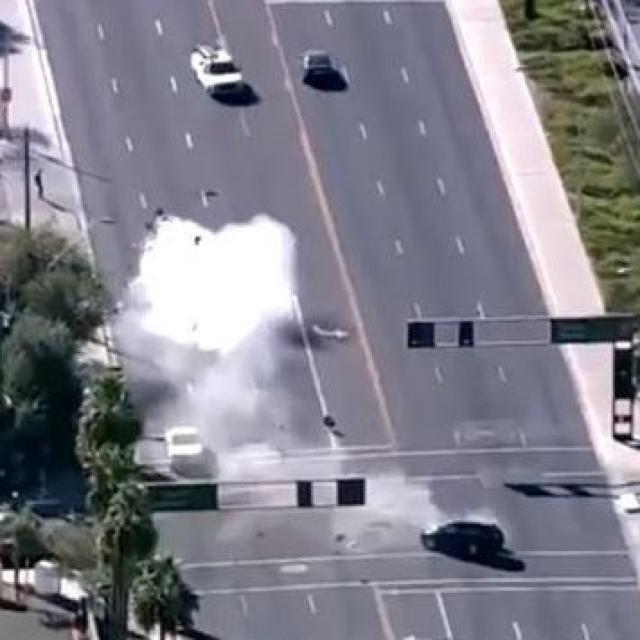traffic_incident: (108, 183, 349, 413), (392, 469, 541, 596)
